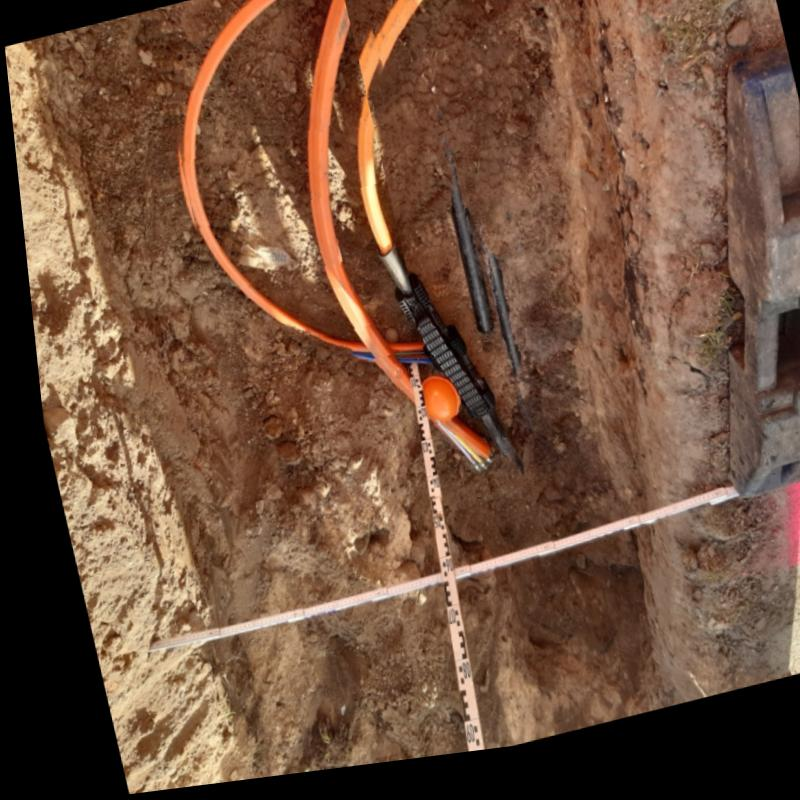Kugelmarker: (412, 388, 450, 432)
Orang-Speednetrohrchen: (178, 0, 357, 368), (295, 0, 403, 411), (348, 0, 428, 252)
